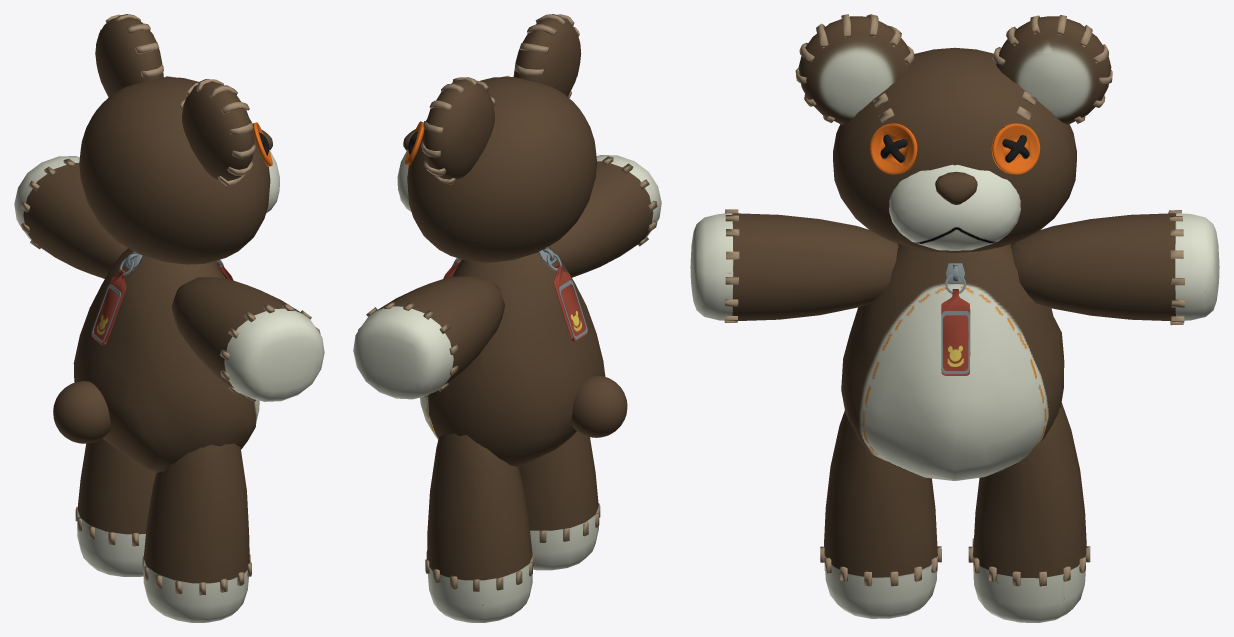
Rendered from toyBear.glb.
The picture shows the model from 3 angles, left to right: view 1: azimuth 30°, elevation 25°; view 2: azimuth 150°, elevation 25°; view 3: azimuth 270°, elevation 25°; orthographic projection. The views are drawn at different scales.
Visible parts, largest first — view 1: head, body, leg.L, arm.L, leg.R, arm.R, ears.L, stitches, ears.R, tail, lightning2, mouth (+1 smaller); view 2: head, body, leg.R, arm.R, leg.L, arm.L, ears.R, stitches, ears.L, tail, lightning2, mouth (+1 smaller); view 3: body, head, arm.R, arm.L, leg.R, leg.L, mouth, ears.R, ears.L, stitches, lightning1, button.R (+2 smaller).
Boxes of the visible parts, x1=… form: head: x1=79, y1=77, x2=270, y2=264; body: x1=73, y1=248, x2=259, y2=472; leg.L: x1=143, y1=443, x2=249, y2=622; arm.L: x1=171, y1=277, x2=324, y2=401; leg.R: x1=77, y1=438, x2=155, y2=576; arm.R: x1=14, y1=156, x2=127, y2=278; ears.L: x1=182, y1=81, x2=254, y2=180; stitches: x1=20, y1=14, x2=320, y2=595; ears.R: x1=95, y1=17, x2=163, y2=96; tail: x1=53, y1=381, x2=110, y2=443; lightning2: x1=91, y1=251, x2=143, y2=345; mouth: x1=266, y1=149, x2=279, y2=213; head: x1=407, y1=77, x2=597, y2=262; body: x1=420, y1=246, x2=605, y2=467; leg.R: x1=427, y1=433, x2=532, y2=622; arm.R: x1=353, y1=275, x2=505, y2=399; leg.L: x1=518, y1=431, x2=598, y2=570; arm.L: x1=549, y1=155, x2=661, y2=277; ears.R: x1=423, y1=79, x2=494, y2=179; stitches: x1=358, y1=14, x2=657, y2=591; ears.L: x1=513, y1=17, x2=581, y2=96; tail: x1=571, y1=375, x2=627, y2=437; lightning2: x1=538, y1=247, x2=587, y2=341; mouth: x1=397, y1=149, x2=411, y2=211; body: x1=841, y1=243, x2=1064, y2=480; head: x1=833, y1=47, x2=1076, y2=252; arm.R: x1=1010, y1=213, x2=1219, y2=320; arm.L: x1=690, y1=213, x2=898, y2=320; leg.R: x1=973, y1=402, x2=1086, y2=622; leg.L: x1=824, y1=410, x2=937, y2=618; mouth: x1=889, y1=164, x2=1020, y2=250; ears.R: x1=996, y1=16, x2=1111, y2=124; ears.L: x1=798, y1=16, x2=913, y2=124; stitches: x1=724, y1=14, x2=1184, y2=586; lightning1: x1=941, y1=263, x2=970, y2=375; button.R: x1=991, y1=123, x2=1040, y2=174.
Size of the model in its own units: 6.46 by 15.44 by 12.39.
14 materials, 7 textured.
